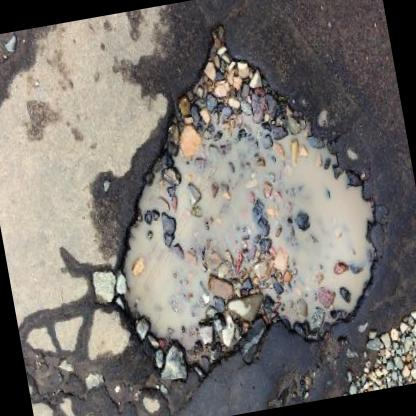pothole: (68, 4, 402, 396)
